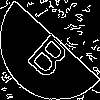B: (25, 25, 78, 81)
